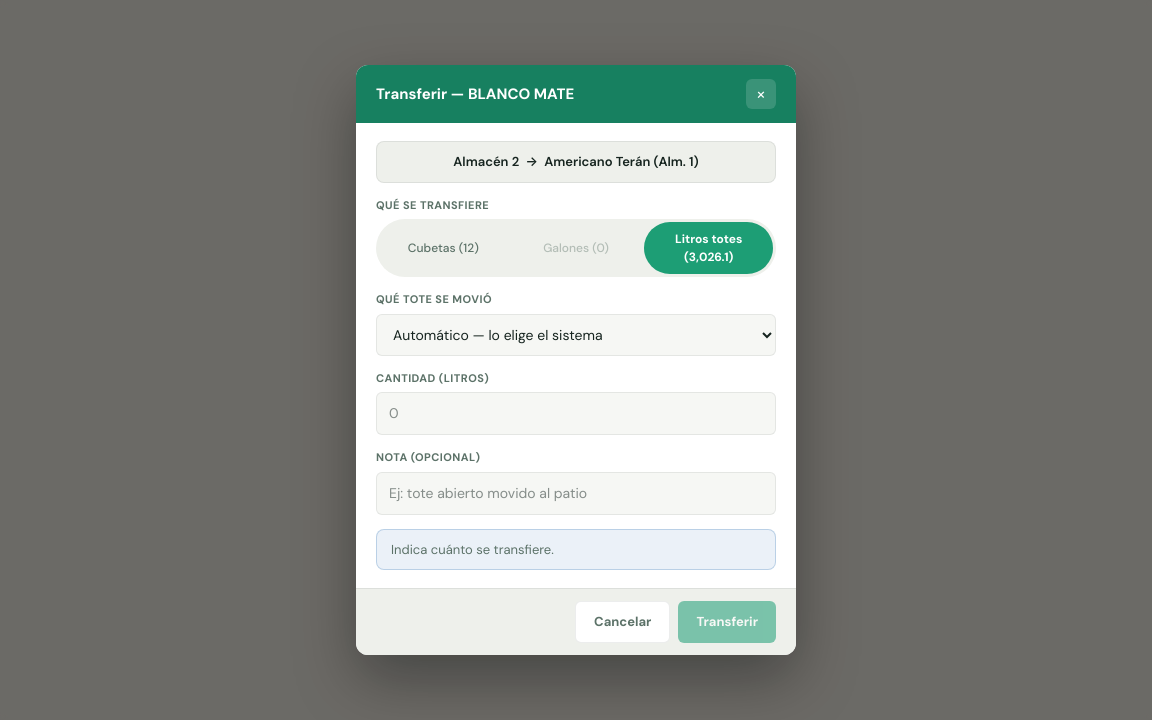
Test: elegir el tote al transferir litros › el resumen dice de qué tote sale, para poder cotejarlo con el fisico
Select "GD89563 — 1,000 L" in the dropdown at (576, 335), box top-left (376, 314), bottom-right (776, 356)
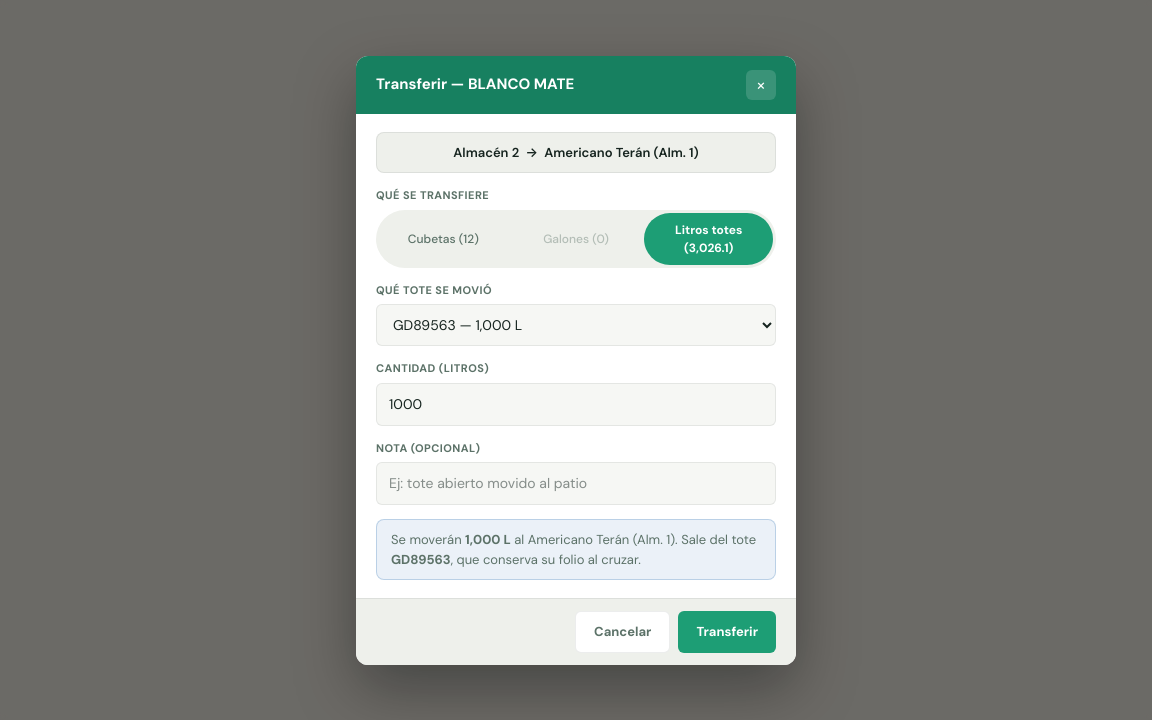
Now the text "conserva su folio al cruzar" is shown, box top-left (451, 550), bottom-right (641, 568)
Now the text "GD89563" is shown, box top-left (391, 550), bottom-right (451, 568)
